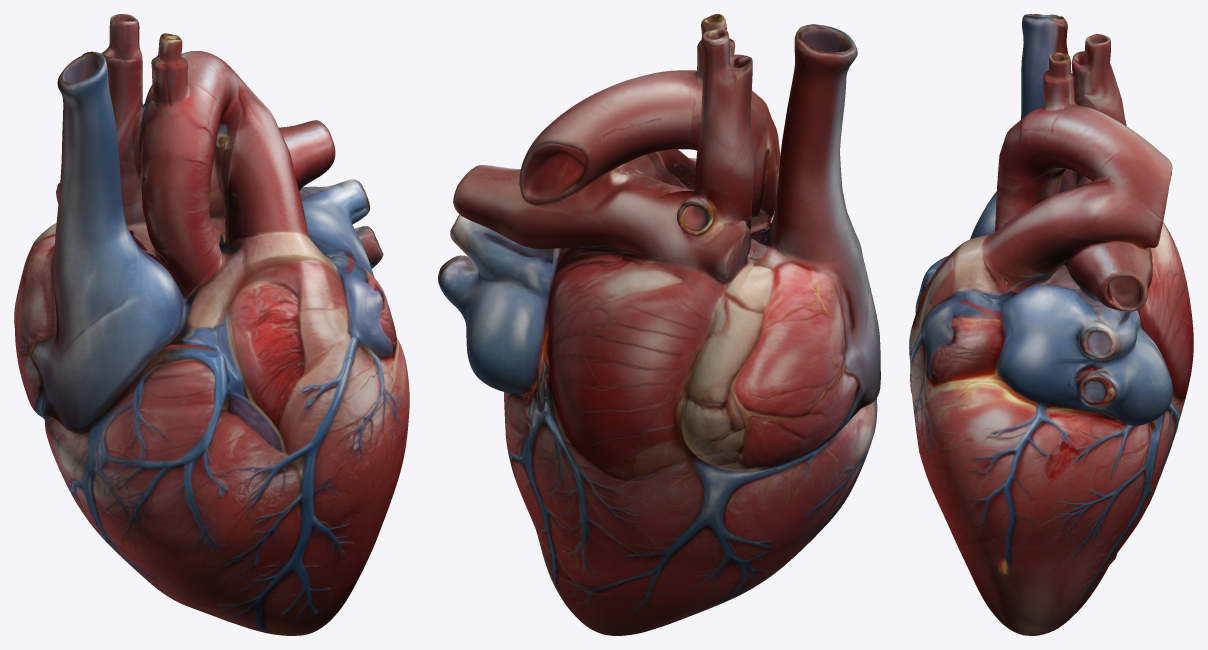
Rendered from hati.glb.
3 renders of one model, left to right at view 1: azimuth 30°, elevation 25°; view 2: azimuth 150°, elevation 25°; view 3: azimuth 270°, elevation 25°, orthographic. The views are drawn at different scales.
Bounding box in the file's own units: 1.23 × 2 × 0.9579.
Materials: 1 (1 with a texture image).
